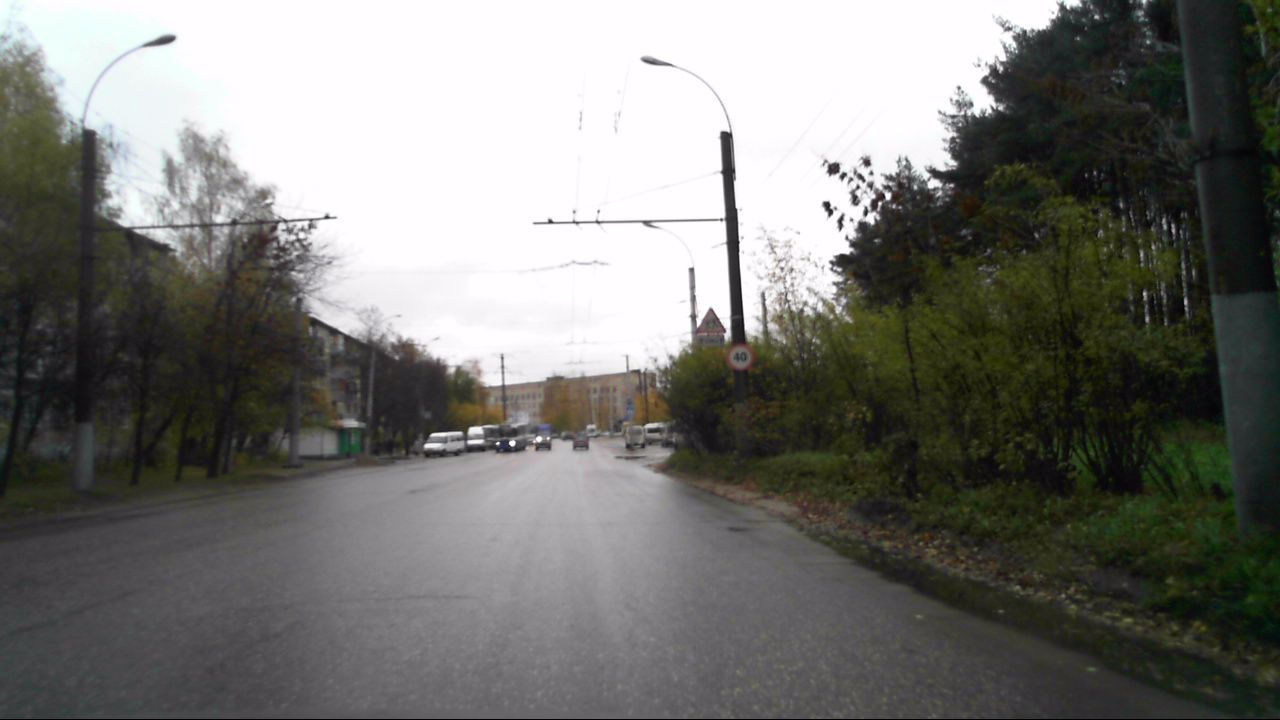speed_warning_40: (725, 344, 754, 373)
